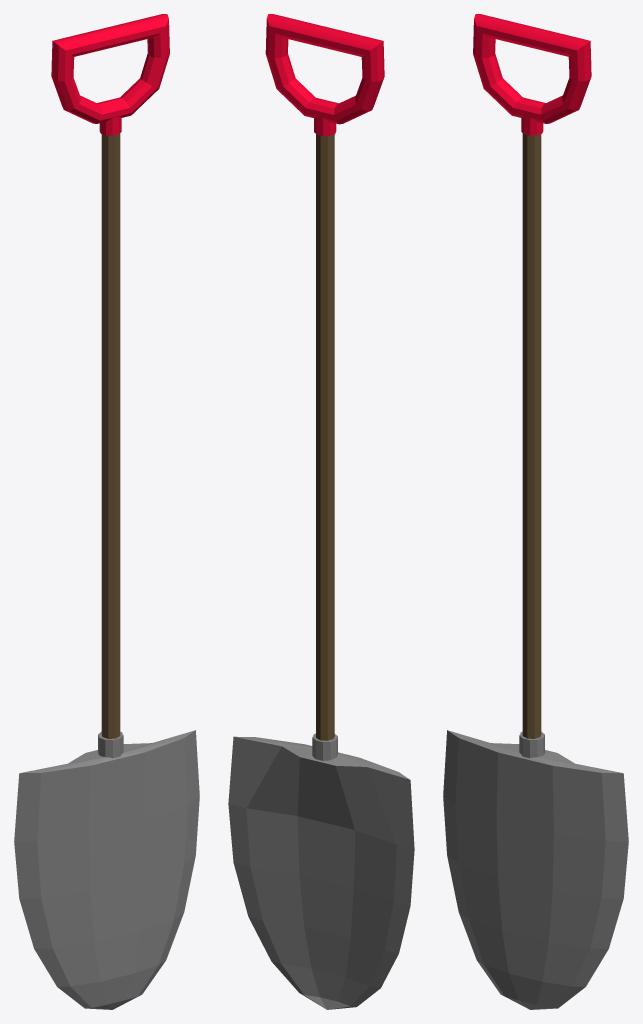
The model's file is simple_shovel.fbx.
The picture shows the model from 3 angles, left to right: view 1: azimuth 30°, elevation 25°; view 2: azimuth 150°, elevation 25°; view 3: azimuth 330°, elevation 25°; orthographic projection.
Parts seen in each view (by area): view 1: pSphere3; view 2: pSphere3; view 3: pSphere3.
Boxes of the visible parts, x1,y1,x2,y2 form: pSphere3: (14,14,199,1009); pSphere3: (228,14,414,1009); pSphere3: (443,14,628,1009).
Size of the model in its own units: 1.9 by 9.6 by 0.2555.
